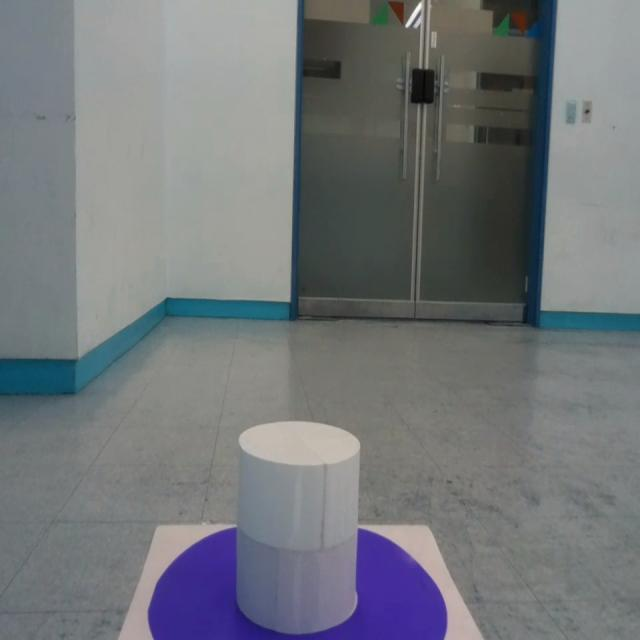cylinder: (235, 422, 361, 633)
